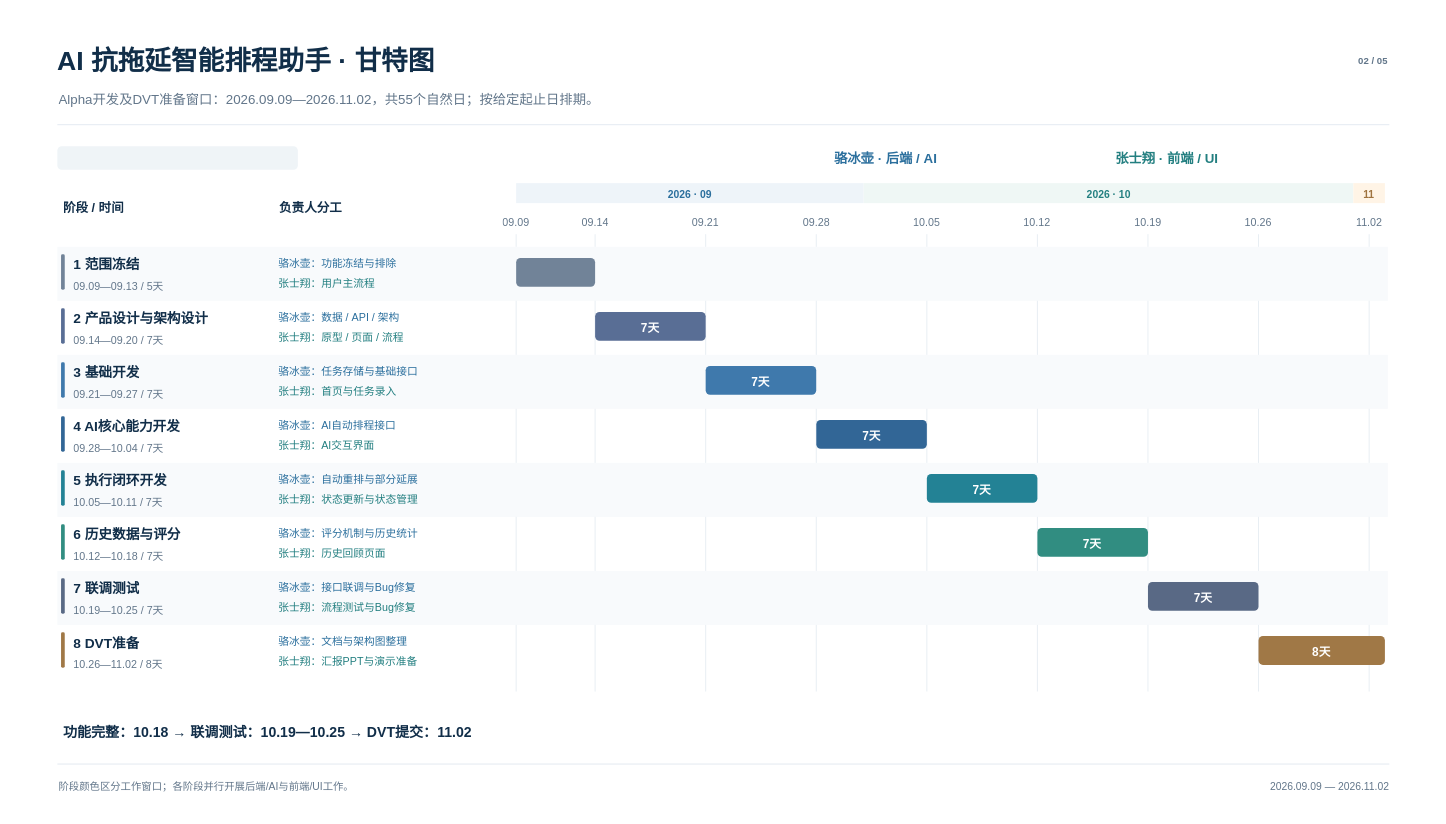
Image size: 1446x824. Some labels were removed from this diagram. Here are the shapes that lost their labels. From the top down, the box of each, then its label:
(57, 146, 297, 169): Concept 已完成 09.01—09.08
(516, 258, 595, 286): 5天
